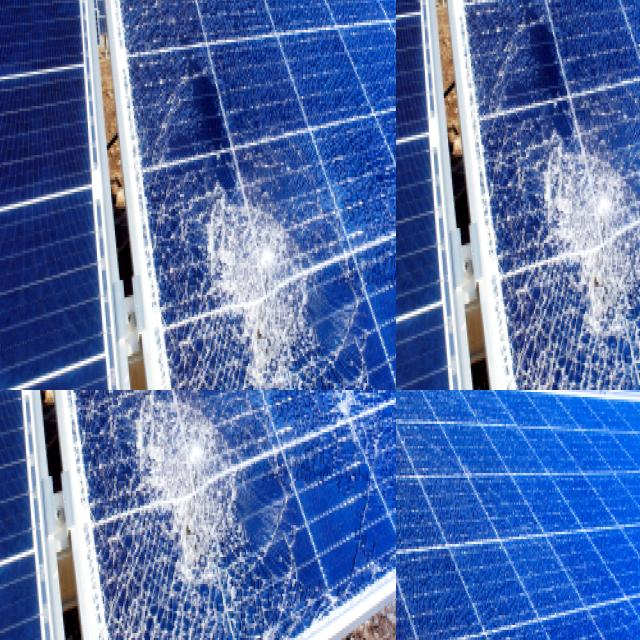crack: (0, 390, 396, 640), (396, 0, 640, 390)
shadow: (216, 0, 336, 67)
